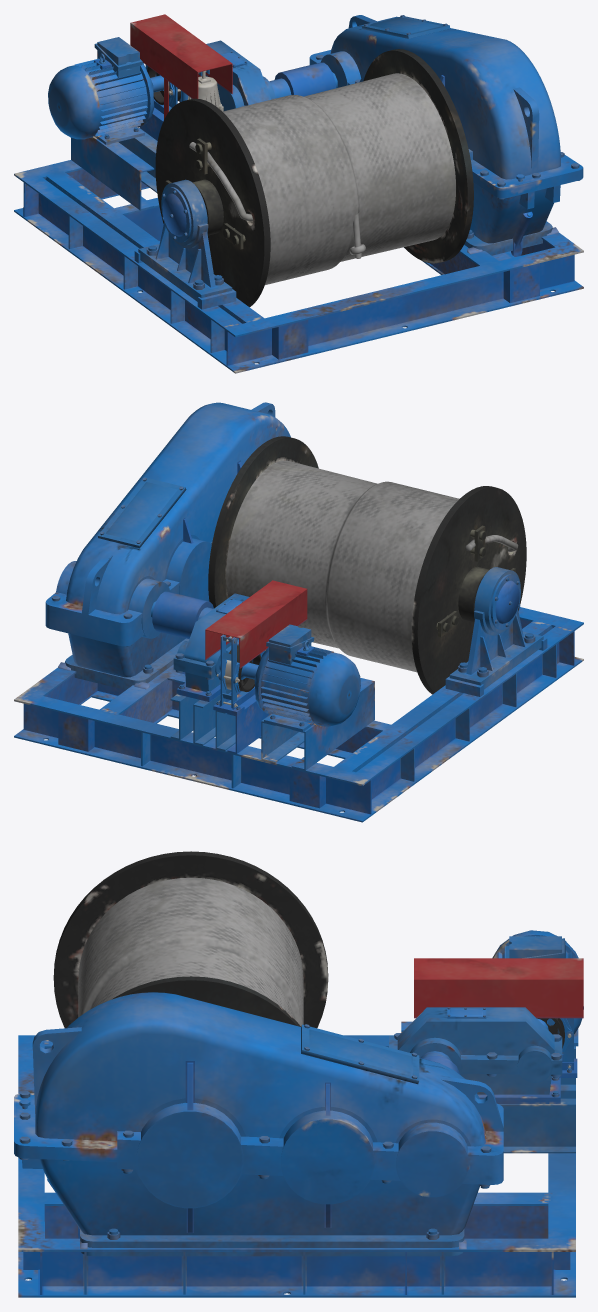
File: 1754738726512-winch.glb
3 views of the same model, one above another, from view 1: azimuth 30°, elevation 25°; view 2: azimuth 150°, elevation 25°; view 3: azimuth 270°, elevation 25° (orthographic). The views are drawn at different scales.
Parts seen in each view (by area): view 1: Winch_LOD0, Winch.001_LOD0, Winch.003_LOD0; view 2: Winch_LOD0, Winch.001_LOD0, Winch.003_LOD0, Winch.002_LOD0; view 3: Winch_LOD0, Winch.001_LOD0.
Part boxes in pixels (box(x1,y1,x2,y2)): Winch_LOD0: box(14, 14, 583, 373); Winch.001_LOD0: box(155, 49, 473, 307); Winch.003_LOD0: box(269, 62, 337, 98); Winch_LOD0: box(14, 402, 583, 822); Winch.001_LOD0: box(208, 436, 526, 694); Winch.003_LOD0: box(151, 591, 213, 638); Winch.002_LOD0: box(219, 645, 261, 691); Winch_LOD0: box(14, 930, 583, 1297); Winch.001_LOD0: box(53, 851, 328, 1028).
Bounding box in the file's own units: 2.01 × 1.15 × 2.25.
Materials: 1 (1 with a texture image).
